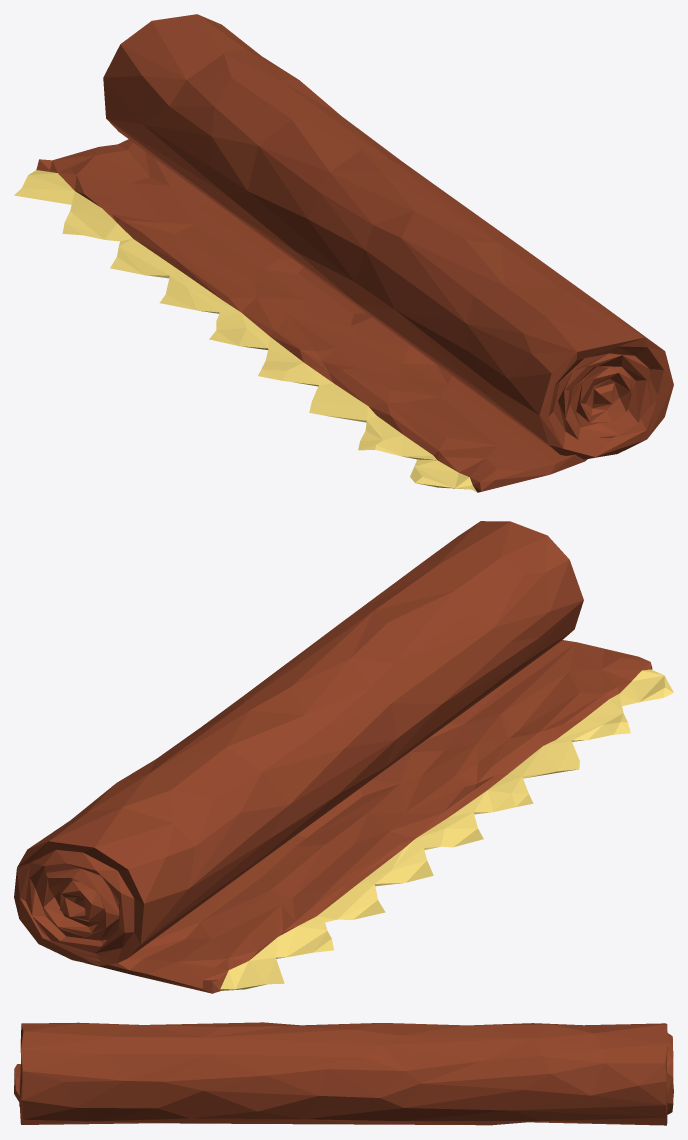
File: rug folded 1.glb
3 renders of one model, top to bottom at view 1: azimuth 30°, elevation 25°; view 2: azimuth 150°, elevation 25°; view 3: azimuth 270°, elevation 25°, orthographic. The views are drawn at different scales.
Visible parts, largest first — view 1: Cube, Cube.001; view 2: Cube, Cube.001; view 3: Cube, Cube.001.
Part boxes in pixels (left/top/right/bottom): Cube: left=103, top=14, right=673, bottom=459; Cube.001: left=14, top=139, right=587, bottom=492; Cube: left=14, top=521, right=583, bottom=965; Cube.001: left=76, top=640, right=673, bottom=993; Cube: left=19, top=1022, right=673, bottom=1125; Cube.001: left=14, top=1064, right=20, bottom=1101.
Size of the model in its own units: 3.41 by 1.6 by 10.54.
